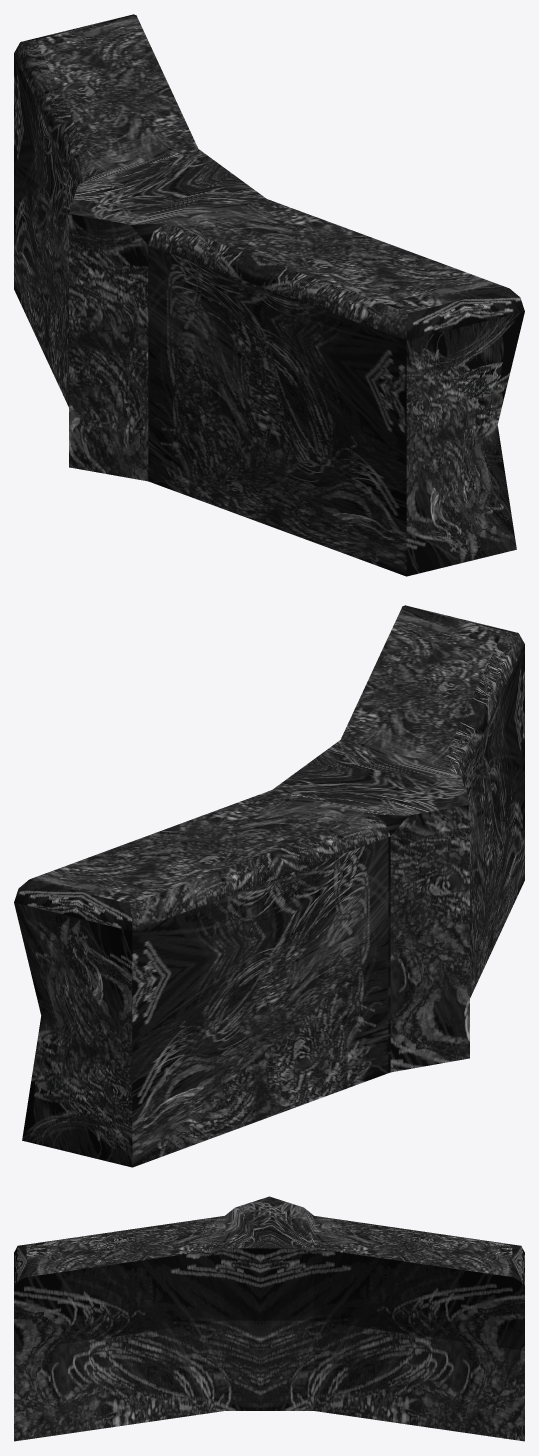
File: wall_Fight.fbx
3 renders of one model, top to bottom at view 1: azimuth 30°, elevation 25°; view 2: azimuth 150°, elevation 25°; view 3: azimuth 270°, elevation 25°, orthographic. The views are drawn at different scales.
Visible parts, largest first — view 1: Cube; view 2: Cube; view 3: Cube.
Boxes of the visible parts, <box> form: Cube: <box>14,14,524,576</box>; Cube: <box>14,605,524,1167</box>; Cube: <box>14,1196,524,1441</box>.
Size of the model in its own units: 438 by 409 by 1147.
